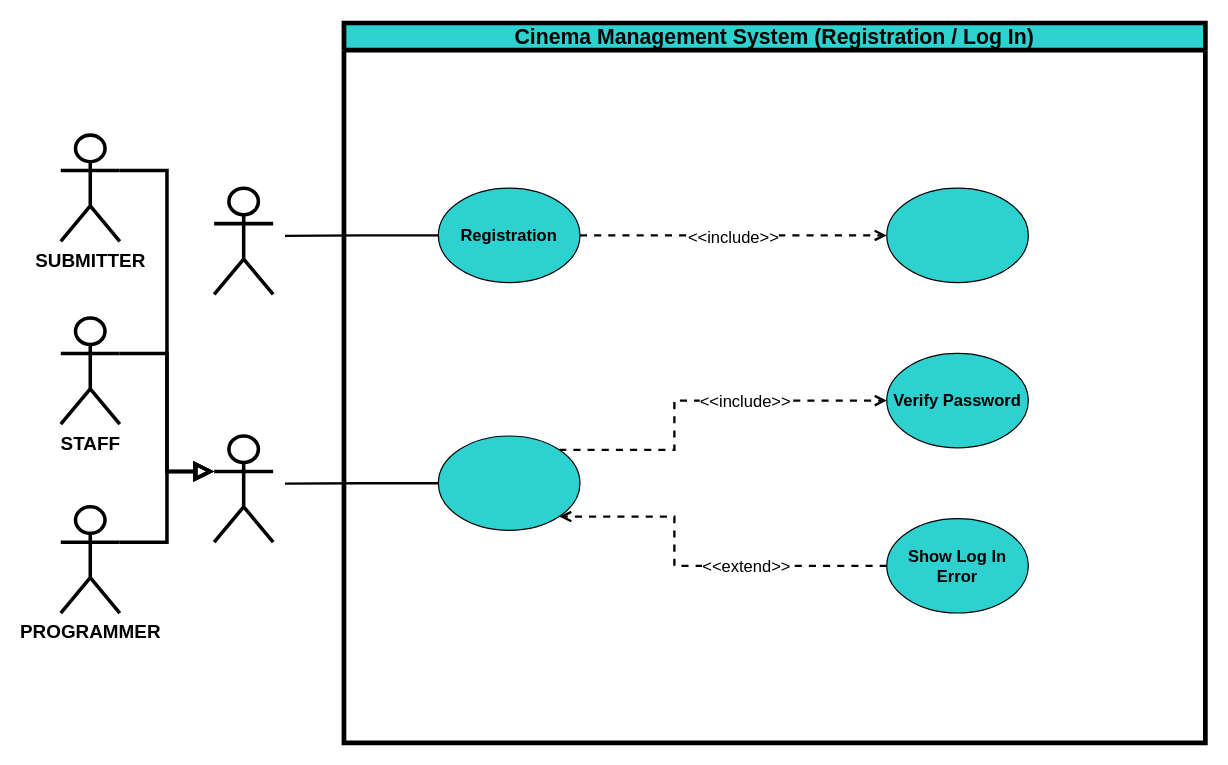
The diagram is 1228 pixels wide and 765 high, and some of its shapes have lost their labels. The shapes that lost their labels are listed below. From the top down, each one's centre as x and y in pixels, then its label:
(x=243, y=241): VISITOR
(x=957, y=235): Verify Data
(x=243, y=488): USER
(x=508, y=482): Log In
